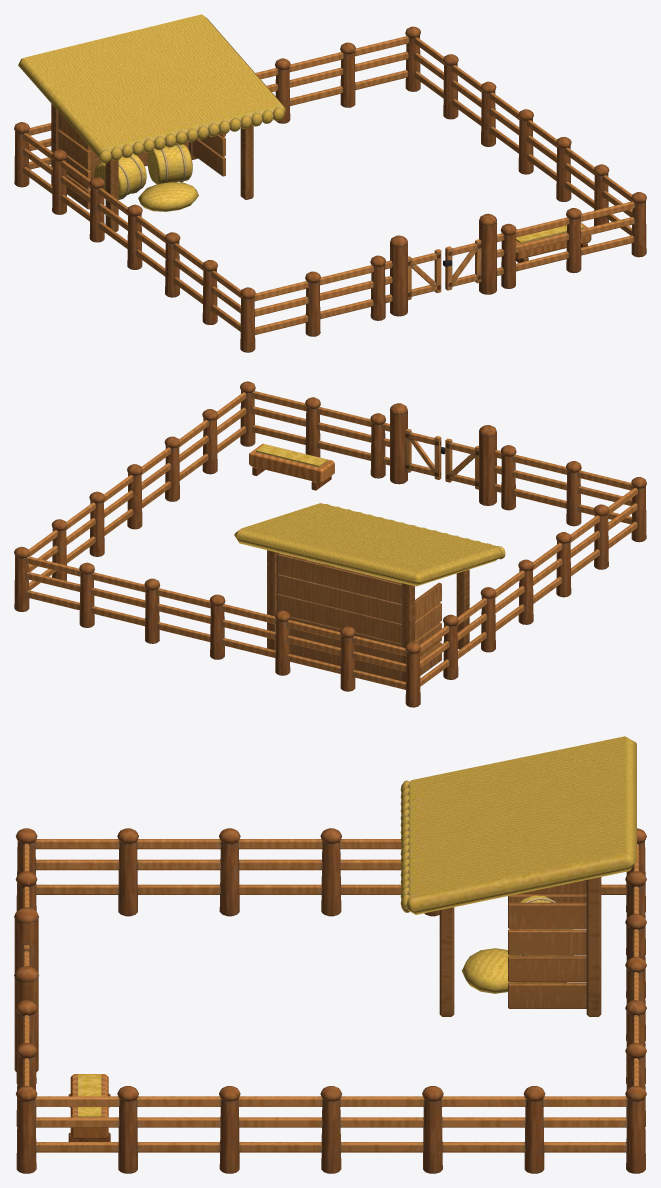
The model's file is zebu_pasture.glb.
3 renders of one model, top to bottom at view 1: azimuth 30°, elevation 25°; view 2: azimuth 150°, elevation 25°; view 3: azimuth 270°, elevation 25°, orthographic. The views are drawn at different scales.
Parts seen in each view (by area): view 1: zebu_pasture, gate1, gate0; view 2: zebu_pasture, gate1, gate0; view 3: zebu_pasture.
Part boxes in pixels (left/top/right/bottom): zebu_pasture: left=14, top=14, right=646, bottom=352; gate1: left=443, top=239, right=481, bottom=290; gate0: left=408, top=249, right=441, bottom=300; zebu_pasture: left=14, top=381, right=646, bottom=707; gate1: left=405, top=428, right=445, bottom=479; gate0: left=445, top=438, right=478, bottom=489; zebu_pasture: left=14, top=736, right=646, bottom=1173.
Size of the model in its own units: 3 by 0.9759 by 3.01.
1 material, 1 textured.
